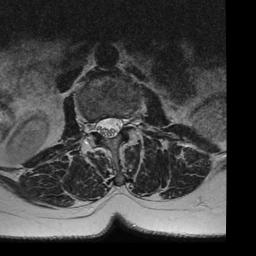CCS_normal: (106, 112, 113, 144)
LFS_normal: (122, 110, 131, 135)
LLS_normal: (113, 111, 121, 140)
RFS_normal: (89, 114, 97, 138)
RLS_normal: (97, 112, 106, 138)
